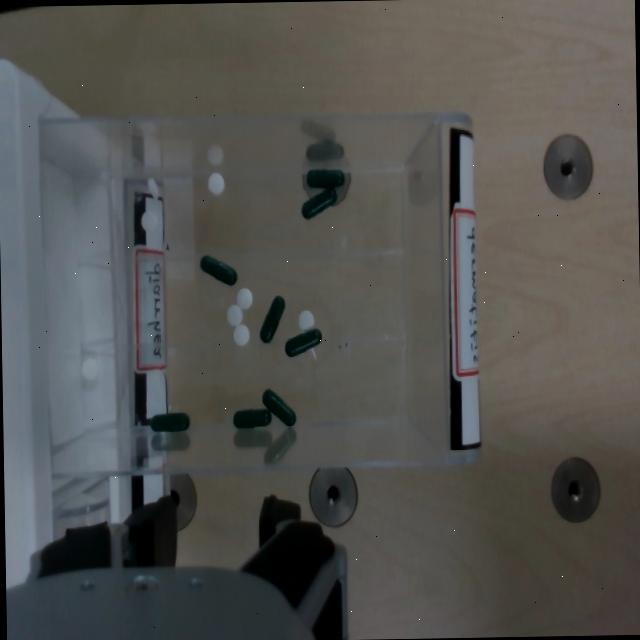ganakan_tab: (230, 321, 249, 346), (296, 307, 315, 330), (224, 301, 242, 325), (81, 354, 97, 380), (234, 284, 251, 308), (139, 208, 156, 231), (81, 355, 97, 379), (206, 171, 223, 193), (207, 171, 223, 194), (226, 303, 242, 326), (236, 286, 252, 308), (141, 208, 156, 231), (233, 321, 248, 344), (298, 308, 313, 330), (146, 176, 159, 200), (146, 176, 160, 196)
monodoxy_cap: (257, 293, 285, 342), (261, 385, 295, 425), (198, 251, 236, 284), (283, 324, 322, 356), (262, 387, 294, 425), (199, 253, 236, 284), (259, 294, 283, 341), (300, 186, 336, 217), (301, 189, 336, 216), (285, 327, 320, 354), (149, 409, 189, 431), (231, 405, 271, 427), (305, 165, 344, 187), (305, 167, 344, 188), (150, 410, 188, 430), (233, 407, 270, 427)
